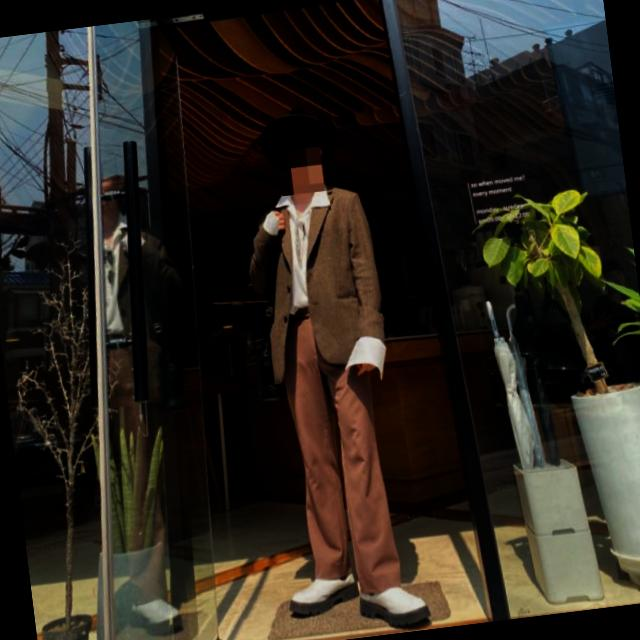blazer: (238, 181, 390, 384)
slacks: (274, 291, 406, 604)
